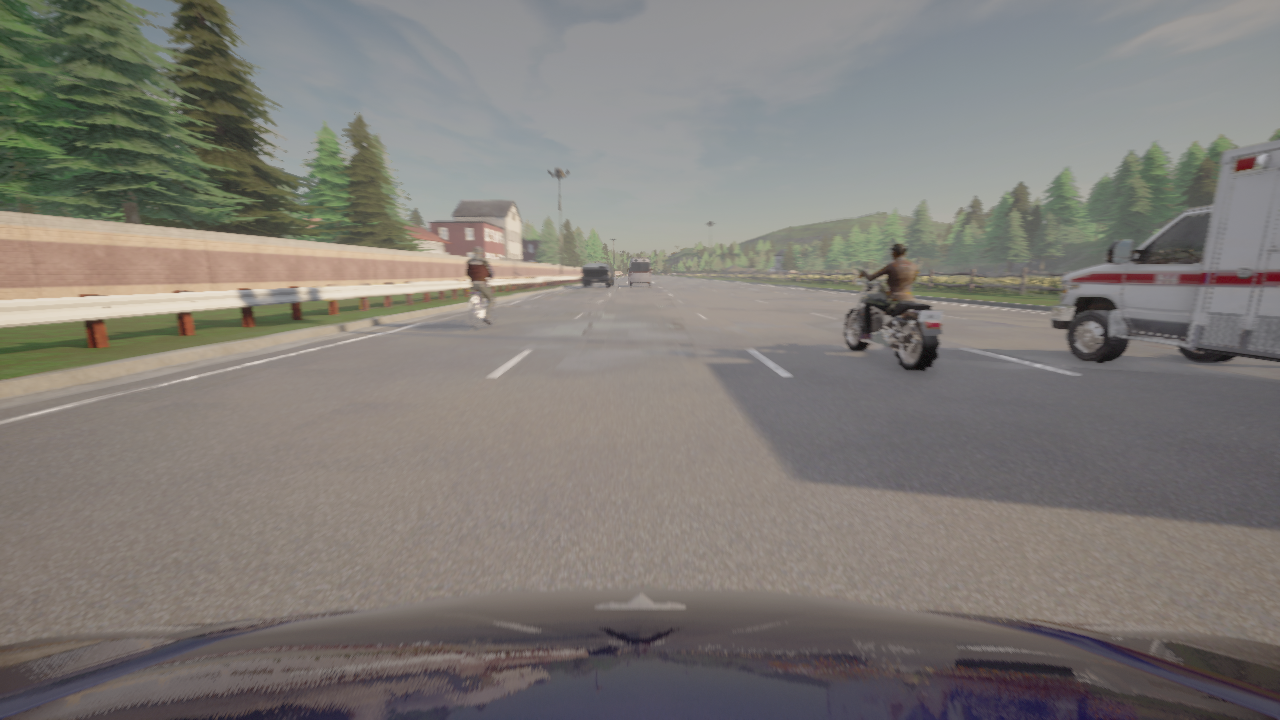cyclist: (0, 588, 1279, 719), (1051, 139, 1279, 362), (842, 268, 943, 371), (469, 282, 495, 329), (581, 263, 614, 287), (628, 258, 651, 286), (672, 272, 677, 274)
